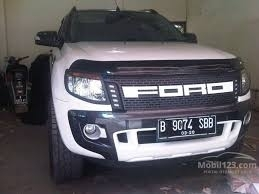plate: (159, 118, 215, 136)
